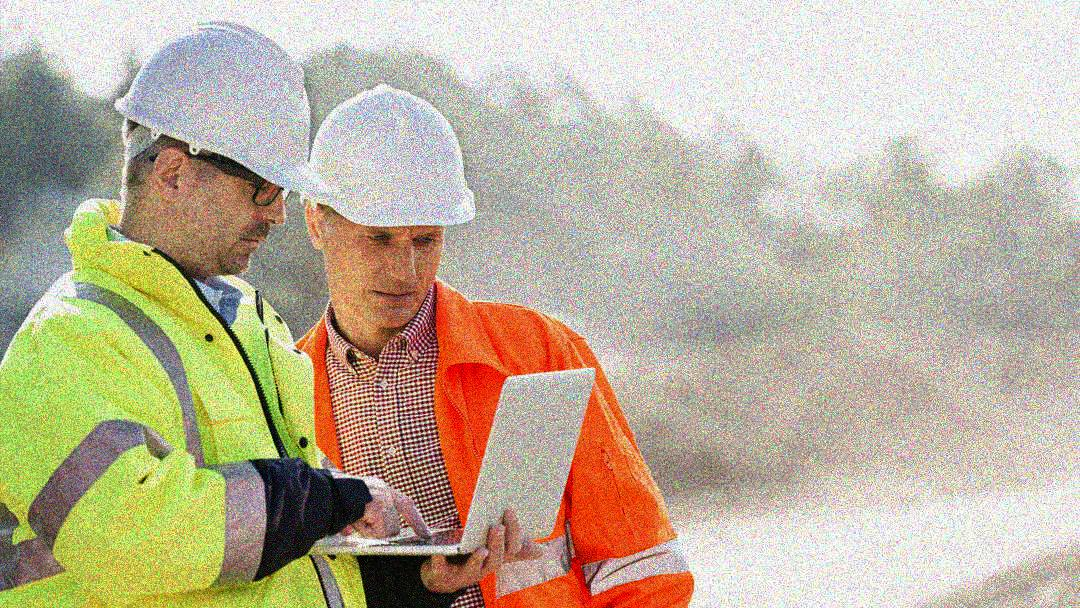helmet: (113, 18, 312, 283), (302, 85, 478, 323)
